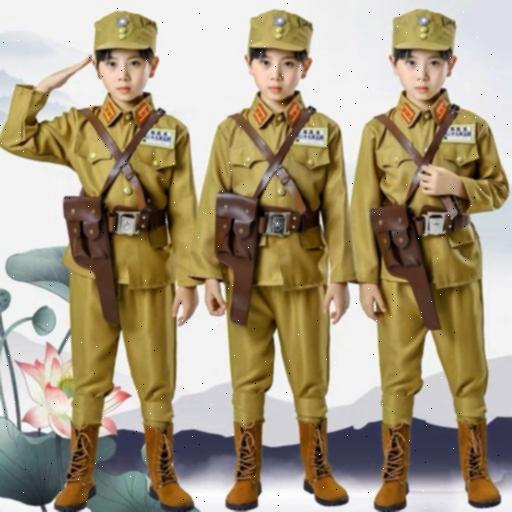north army: (17, 12, 512, 503)
